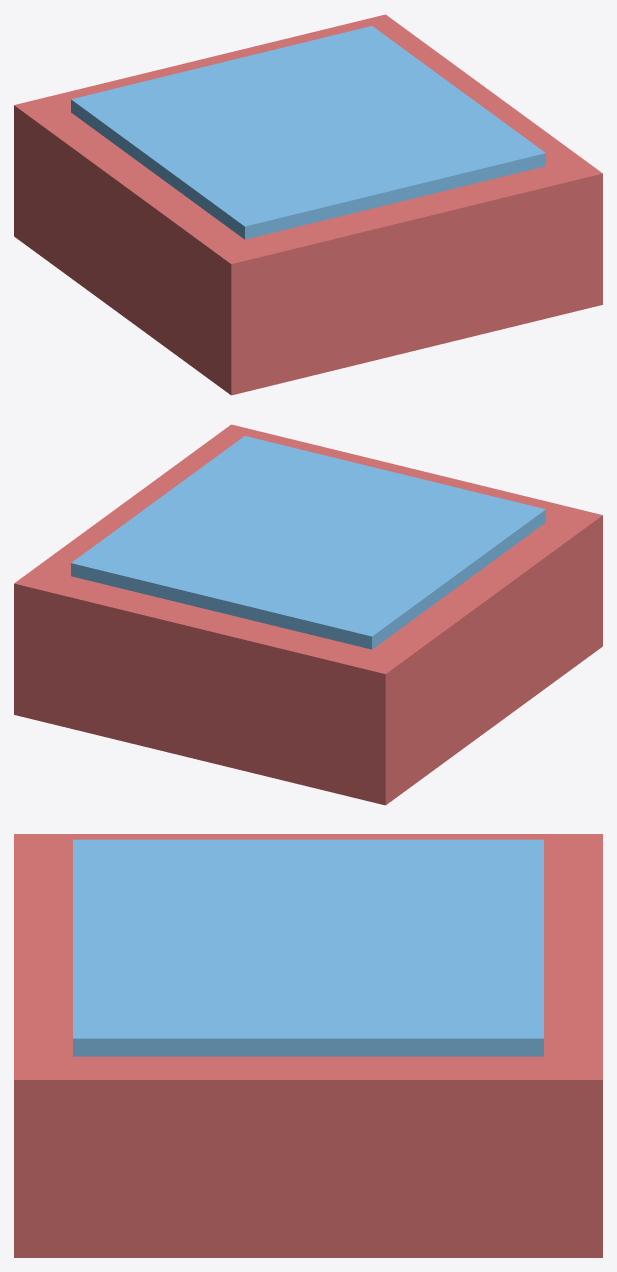
File: Prop_Pet_AMF_Bowl_V11.glb
3 views of the same model, one above another, from view 1: azimuth 30°, elevation 25°; view 2: azimuth 150°, elevation 25°; view 3: azimuth 270°, elevation 25° (orthographic). The views are drawn at different scales.
Parts seen in each view (by area): view 1: Prop_Pet_AMF_Bowl_V11; view 2: Prop_Pet_AMF_Bowl_V11; view 3: Prop_Pet_AMF_Bowl_V11.
Part boxes in pixels (<box>): Prop_Pet_AMF_Bowl_V11: <box>14,14,602,395</box>; Prop_Pet_AMF_Bowl_V11: <box>14,424,602,805</box>; Prop_Pet_AMF_Bowl_V11: <box>14,834,602,1257</box>.
Bounding box in the file's own units: 0.2962 × 0.11 × 0.3.
